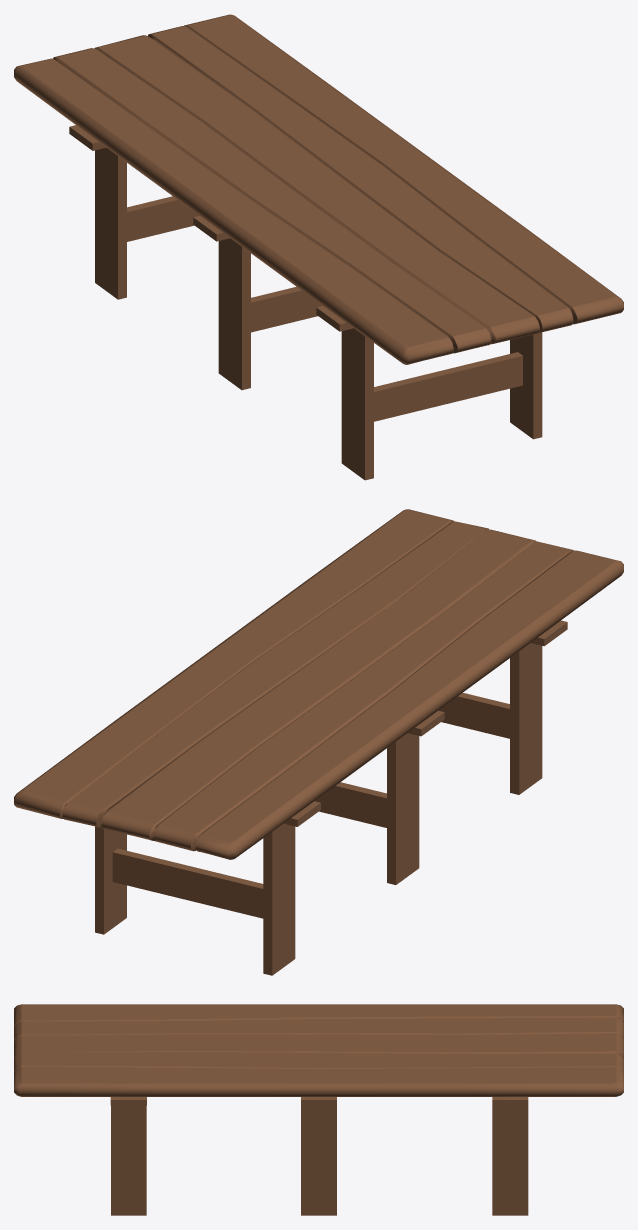
File: SE_093_wooden_table_var3.glb
3 renders of one model, top to bottom at view 1: azimuth 30°, elevation 25°; view 2: azimuth 150°, elevation 25°; view 3: azimuth 270°, elevation 25°, orthographic. The views are drawn at different scales.
Visible parts, largest first — view 1: table, legs, support_bottom, support_top; view 2: table, legs, support_bottom, support_top; view 3: table, legs, support_top.
Part boxes in pixels (x1,y1,x2,y2): table: [14, 14, 623, 364]; legs: [95, 147, 542, 480]; support_bottom: [127, 196, 522, 421]; support_top: [69, 125, 353, 331]; table: [14, 509, 623, 859]; legs: [95, 643, 542, 975]; support_bottom: [112, 693, 509, 918]; support_top: [284, 620, 567, 826]; table: [14, 1004, 623, 1096]; legs: [111, 1105, 528, 1215]; support_top: [110, 1097, 528, 1105].
Size of the model in its own units: 1.5 by 1.12 by 4.5.
